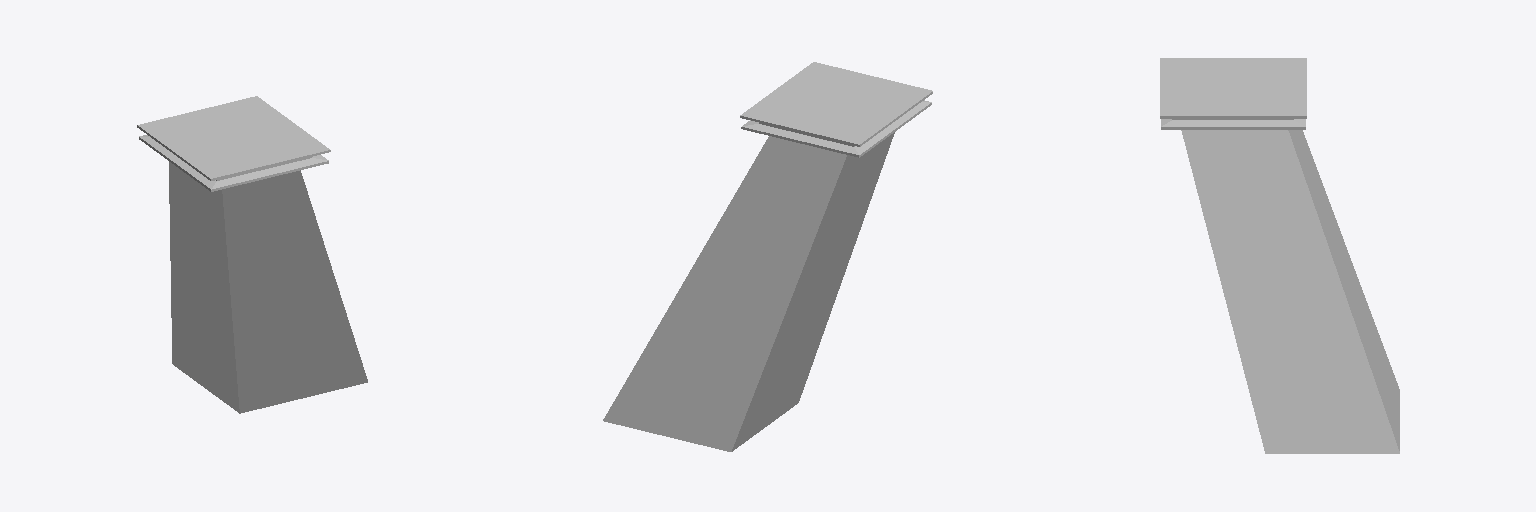
Rendered from TheKeepUpperColumnL.obj.
The picture shows the model from 3 angles: view 1: azimuth 30°, elevation 25°; view 2: azimuth 150°, elevation 25°; view 3: azimuth 270°, elevation 25°; orthographic projection.
Parts seen in each view (by area): view 1: Cube.007_Cube.011; view 2: Cube.007_Cube.011; view 3: Cube.007_Cube.011.
Boxes of the visible parts, <box> form: Cube.007_Cube.011: <box>137,96,367,413</box>; Cube.007_Cube.011: <box>603,62,932,451</box>; Cube.007_Cube.011: <box>1160,58,1399,453</box>.
Size of the model in its own units: 78.35 by 104 by 77.63.